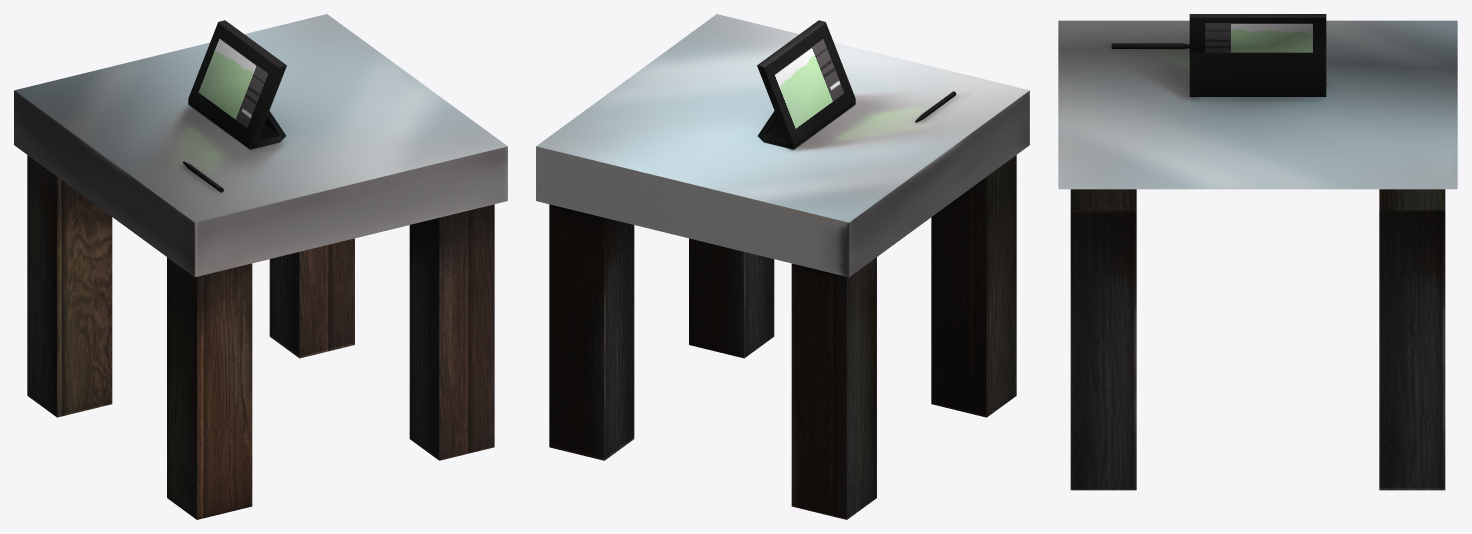
Rendered from computer_modern.FBX.
3 renders of one model, left to right at view 1: azimuth 30°, elevation 25°; view 2: azimuth 150°, elevation 25°; view 3: azimuth 270°, elevation 25°, orthographic. The views are drawn at different scales.
Visible parts, largest first — view 1: computer_modern; view 2: computer_modern; view 3: computer_modern.
Boxes of the visible parts, left/top/right/bottom form: computer_modern: left=14, top=14, right=507, bottom=519; computer_modern: left=536, top=14, right=1029, bottom=519; computer_modern: left=1058, top=14, right=1457, bottom=490.
Bounding box in the file's own units: 0.9956 × 1.15 × 0.9956.
